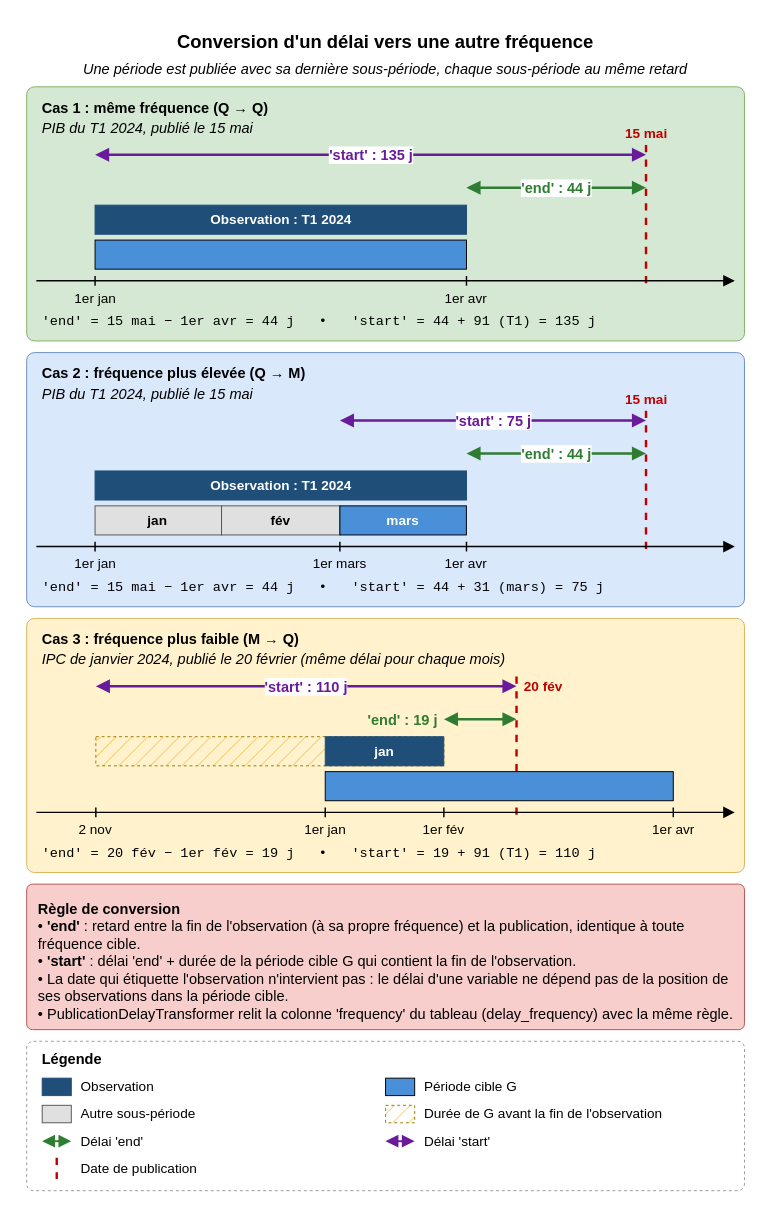
The diagram is 770 pixels wide and 1216 high, and some of its shapes have lost their labels. Here are the shapes that lost their labels. From the top down, the box of each, then its label:
(94, 239, 466, 269): Période cible G : T1
(95, 736, 444, 766): 91 jours
(324, 771, 673, 801): Période cible G : T1 (91 j)
